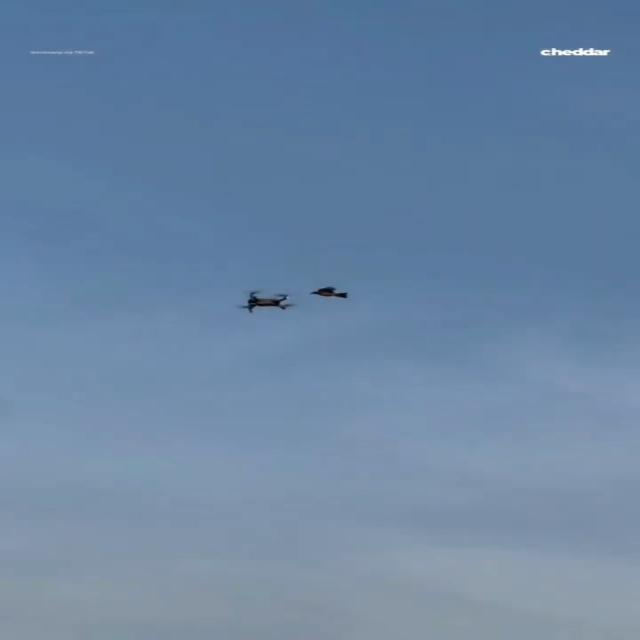bird: (308, 286, 348, 298)
drone: (241, 290, 291, 314)
